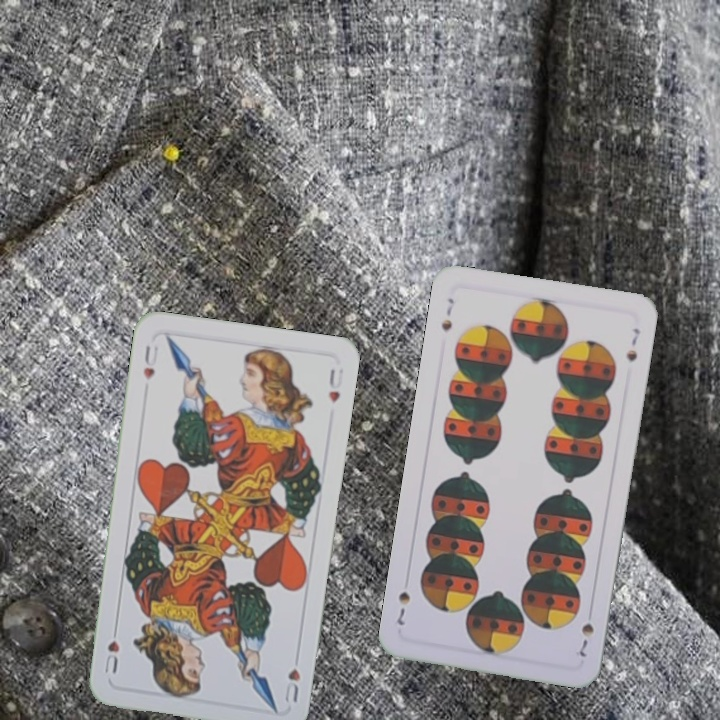HU: (280, 665, 303, 705), (139, 341, 161, 382)
S7: (574, 619, 597, 661), (437, 294, 457, 334)
